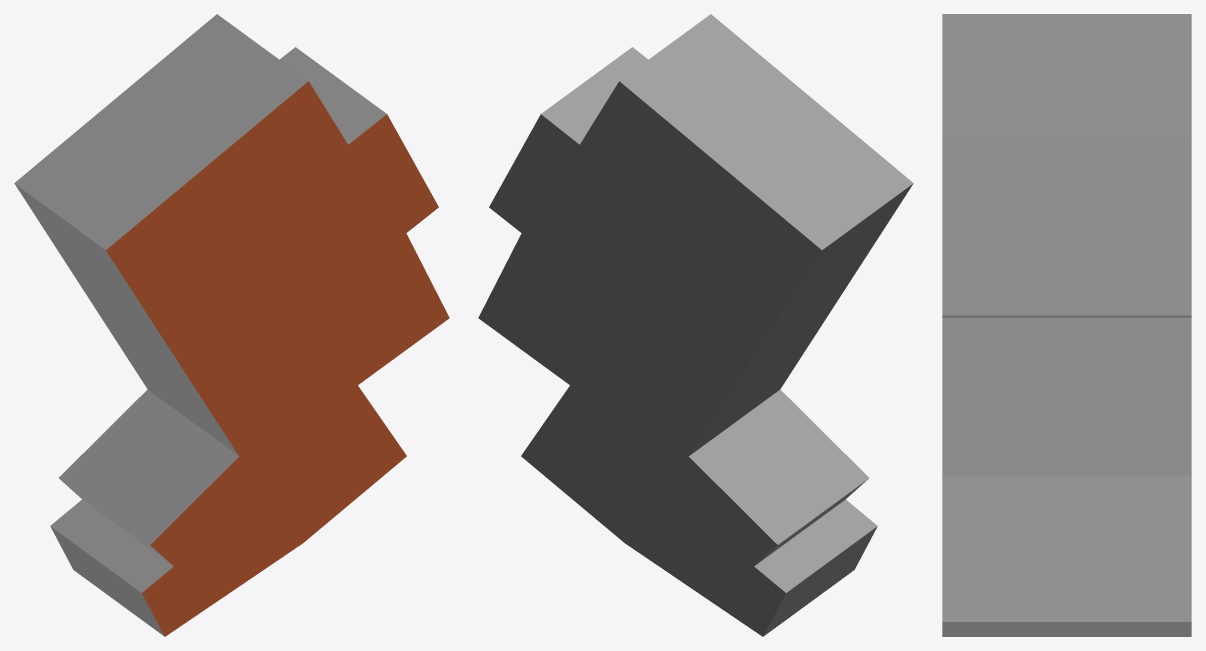
File: construction_4520_assumed_A_Casa_h6m.obj
The picture shows the model from 3 angles, left to right: view 1: azimuth 30°, elevation 25°; view 2: azimuth 150°, elevation 25°; view 3: azimuth 270°, elevation 25°; orthographic projection. The views are drawn at different scales.
Visible parts, largest first — view 1: construction_4520_assumed_A_Casa; view 2: construction_4520_assumed_A_Casa; view 3: construction_4520_assumed_A_Casa.
Part boxes in pixels (<box>): construction_4520_assumed_A_Casa: <box>14,14,449,636</box>; construction_4520_assumed_A_Casa: <box>478,14,913,636</box>; construction_4520_assumed_A_Casa: <box>942,14,1191,636</box>.
Size of the model in its own units: 12.99 by 18.8 by 6.
